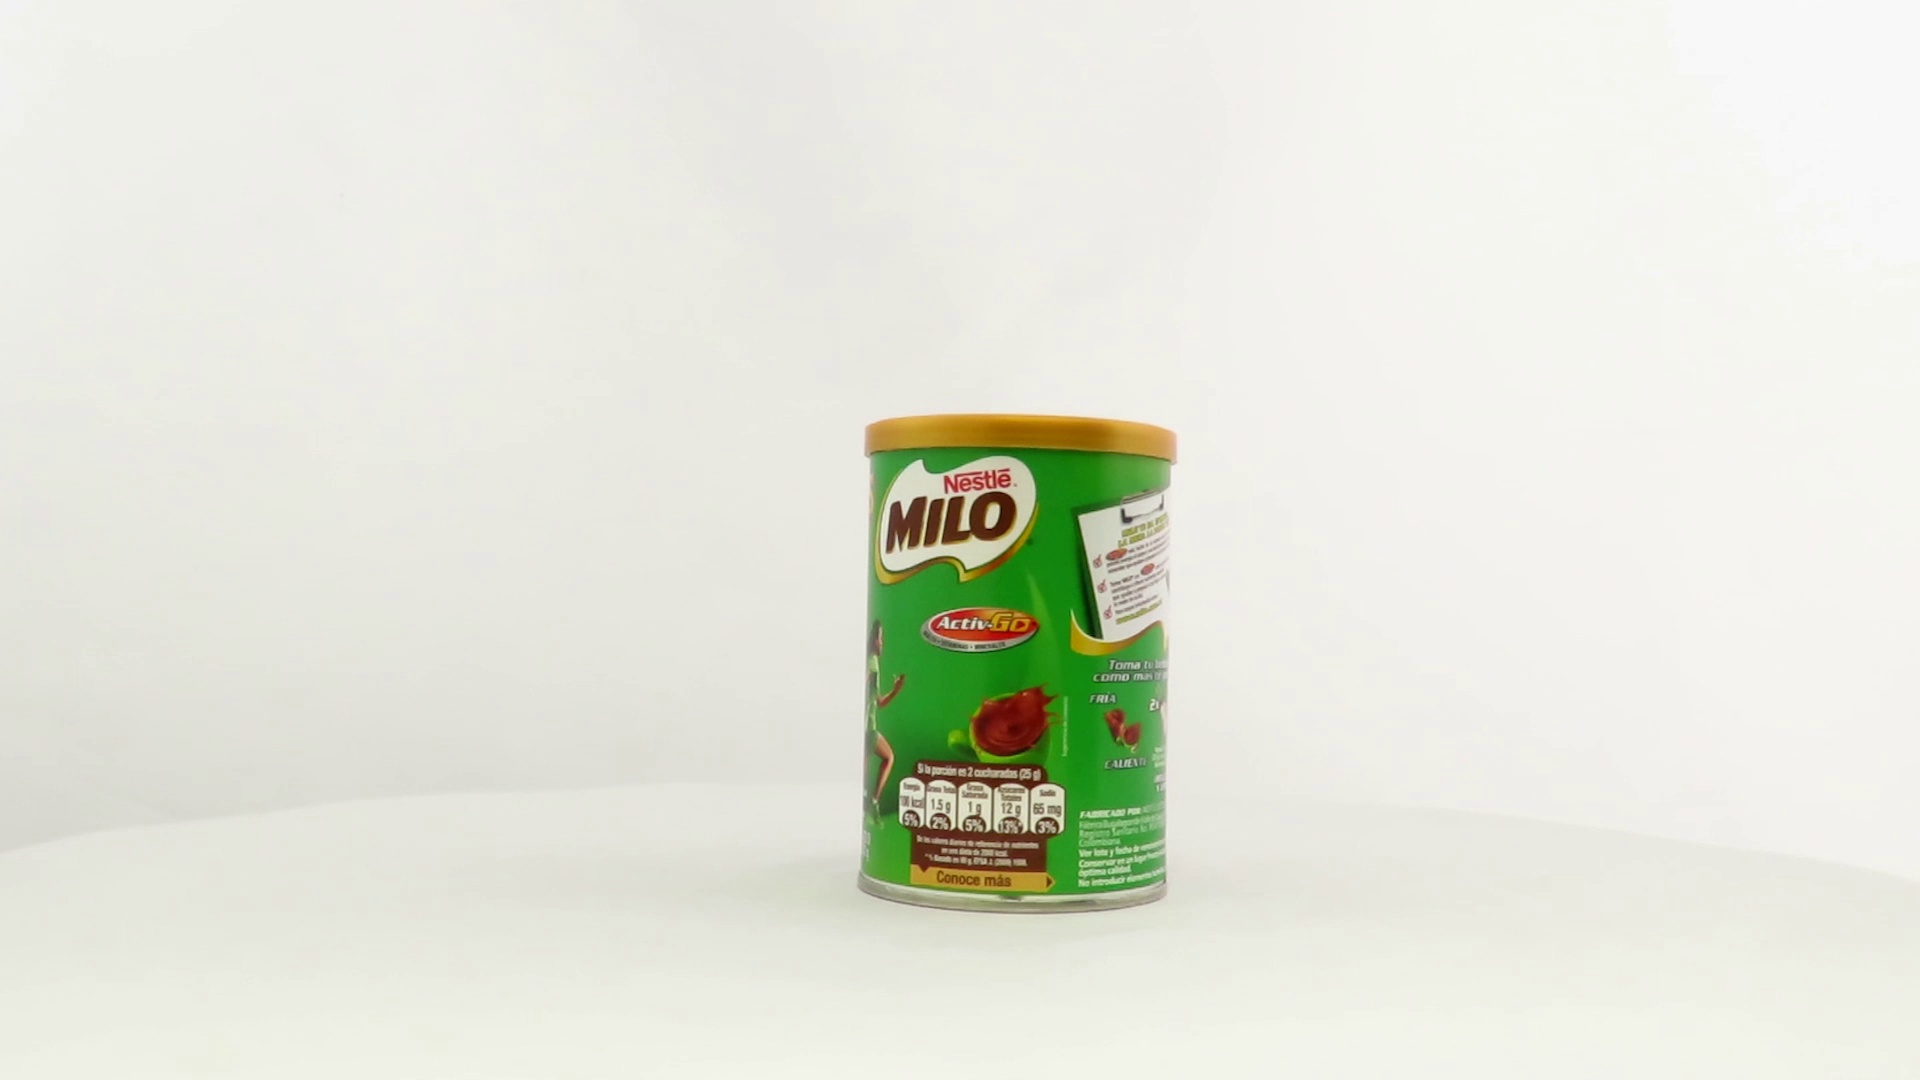COL0170203LAT20000: (852, 407, 1184, 920)
